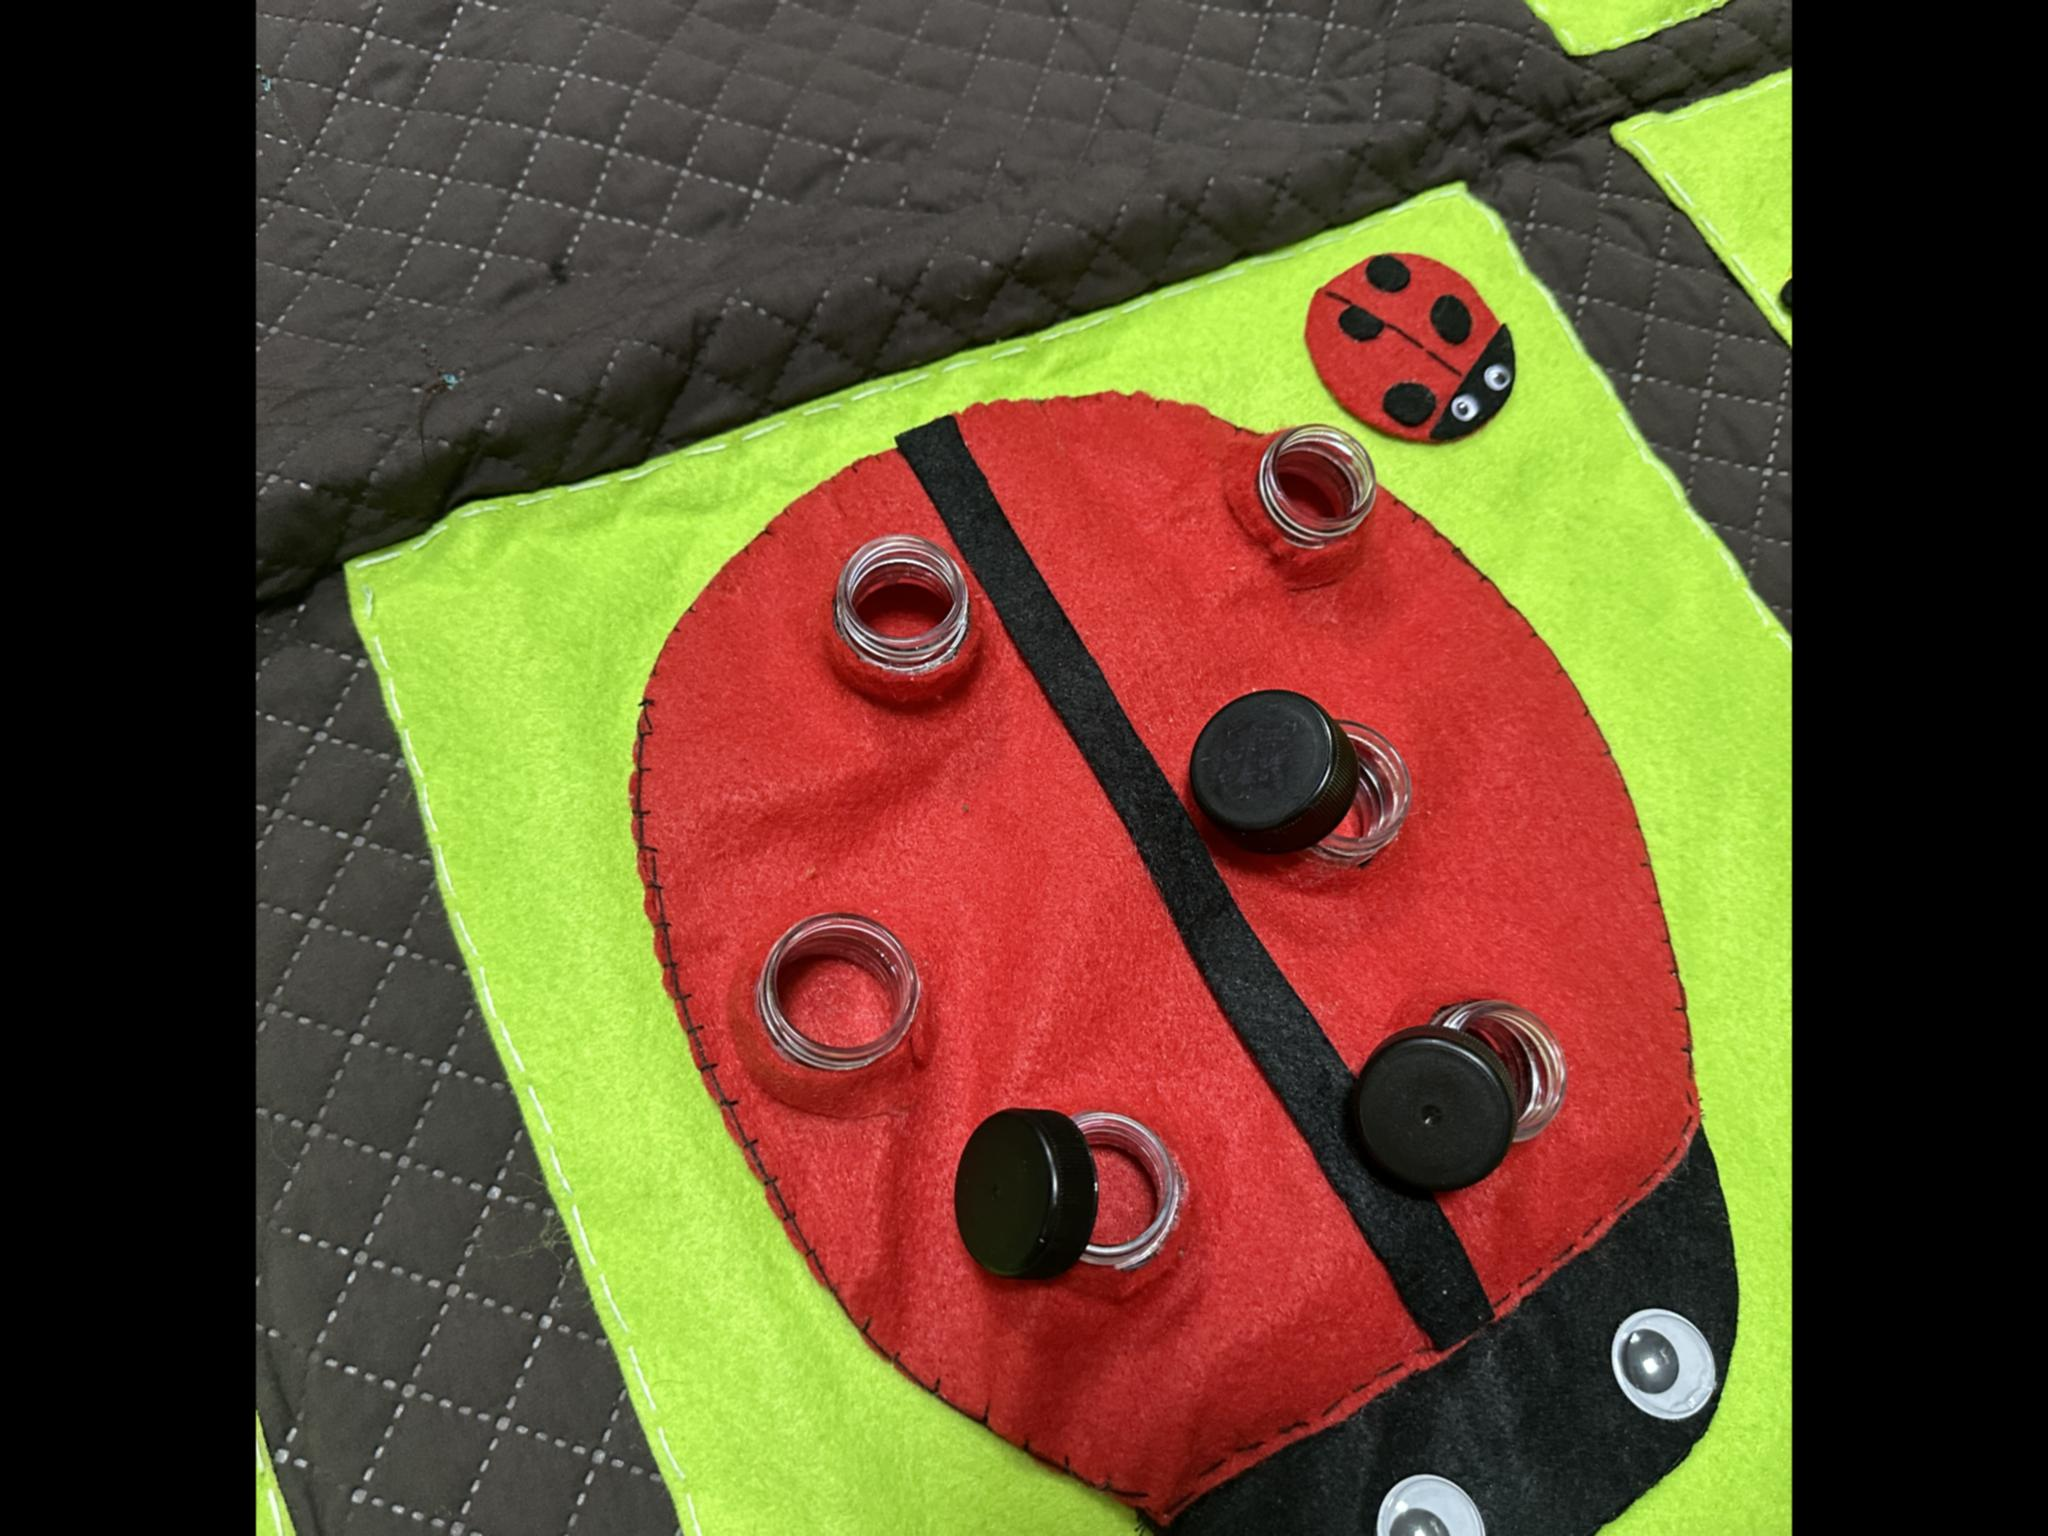cap_ng: (1322, 973, 1584, 1208), (922, 1091, 1203, 1299), (1171, 666, 1430, 889)
